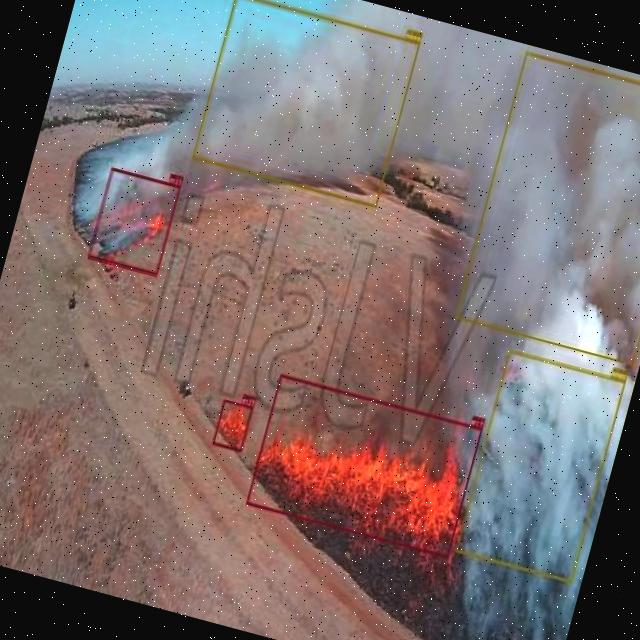smoke: (455, 51, 640, 365), (192, 0, 421, 207), (454, 350, 626, 582)
